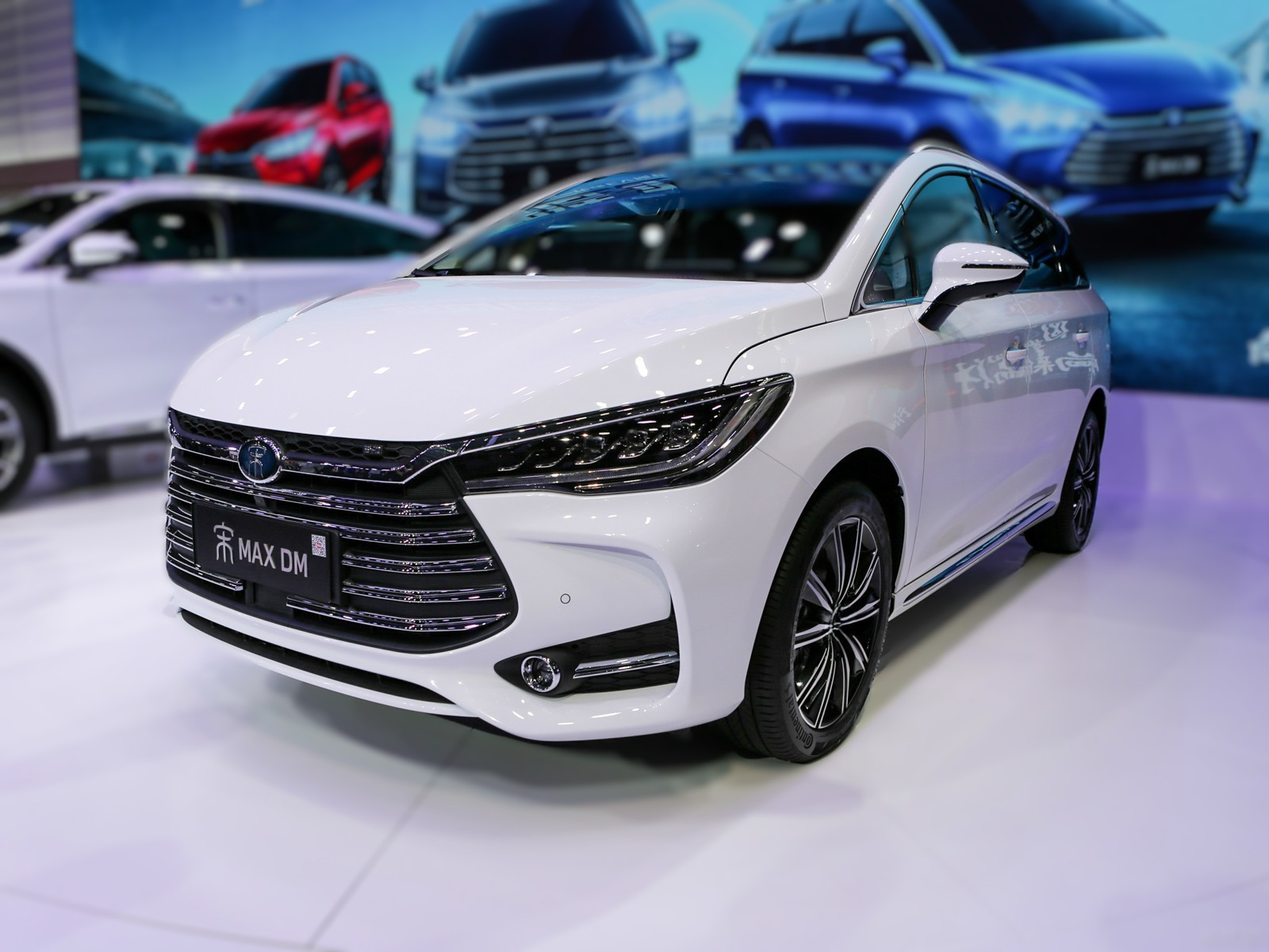BYD Song: (238, 437, 279, 482)
